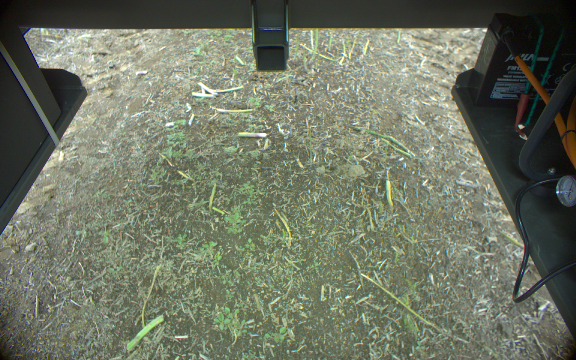aspa: (341, 121, 415, 158), (122, 311, 165, 354), (307, 27, 321, 65), (234, 129, 271, 142), (290, 31, 303, 64), (324, 27, 335, 57), (338, 35, 347, 63)
